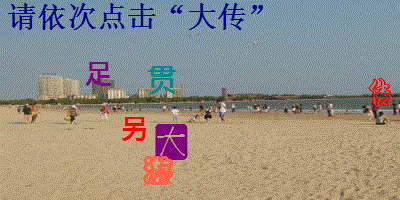result: (186, 1, 248, 33)
text: (154, 123, 188, 162), (141, 154, 175, 186), (145, 64, 178, 96), (84, 60, 112, 90), (368, 77, 393, 108), (121, 114, 147, 143)
